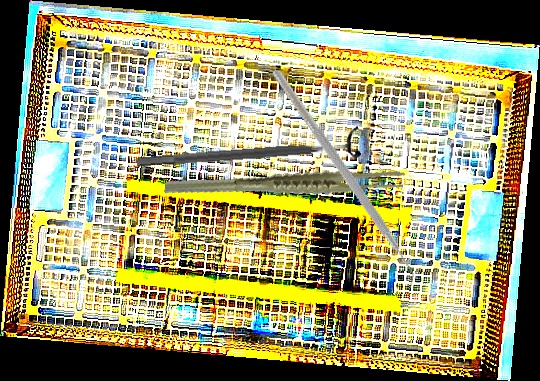Chopper: (213, 69, 470, 294)
Fixation Ring: (134, 125, 362, 179)
Tissue Forceps: (163, 134, 406, 232)
